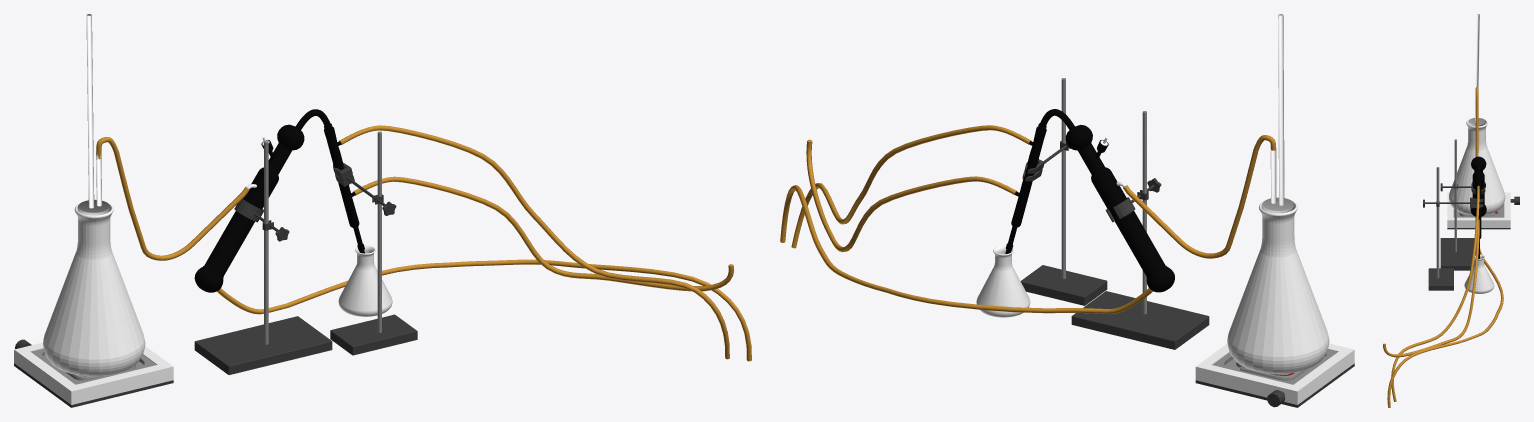
The model's file is SM_手动凯氏定氮仪.fbx.
3 renders of one model, left to right at view 1: azimuth 30°, elevation 25°; view 2: azimuth 150°, elevation 25°; view 3: azimuth 270°, elevation 25°, orthographic. The views are drawn at different scales.
Parts seen in each view (by area): view 1: SM_手动凯氏定氮仪; view 2: SM_手动凯氏定氮仪; view 3: SM_手动凯氏定氮仪.
Part boxes in pixels (bbox=[...]): SM_手动凯氏定氮仪: bbox=[14, 14, 751, 407]; SM_手动凯氏定氮仪: bbox=[780, 14, 1354, 407]; SM_手动凯氏定氮仪: bbox=[1383, 14, 1519, 407].
Size of the model in its own units: 1.61 by 1.05 by 0.5491.
